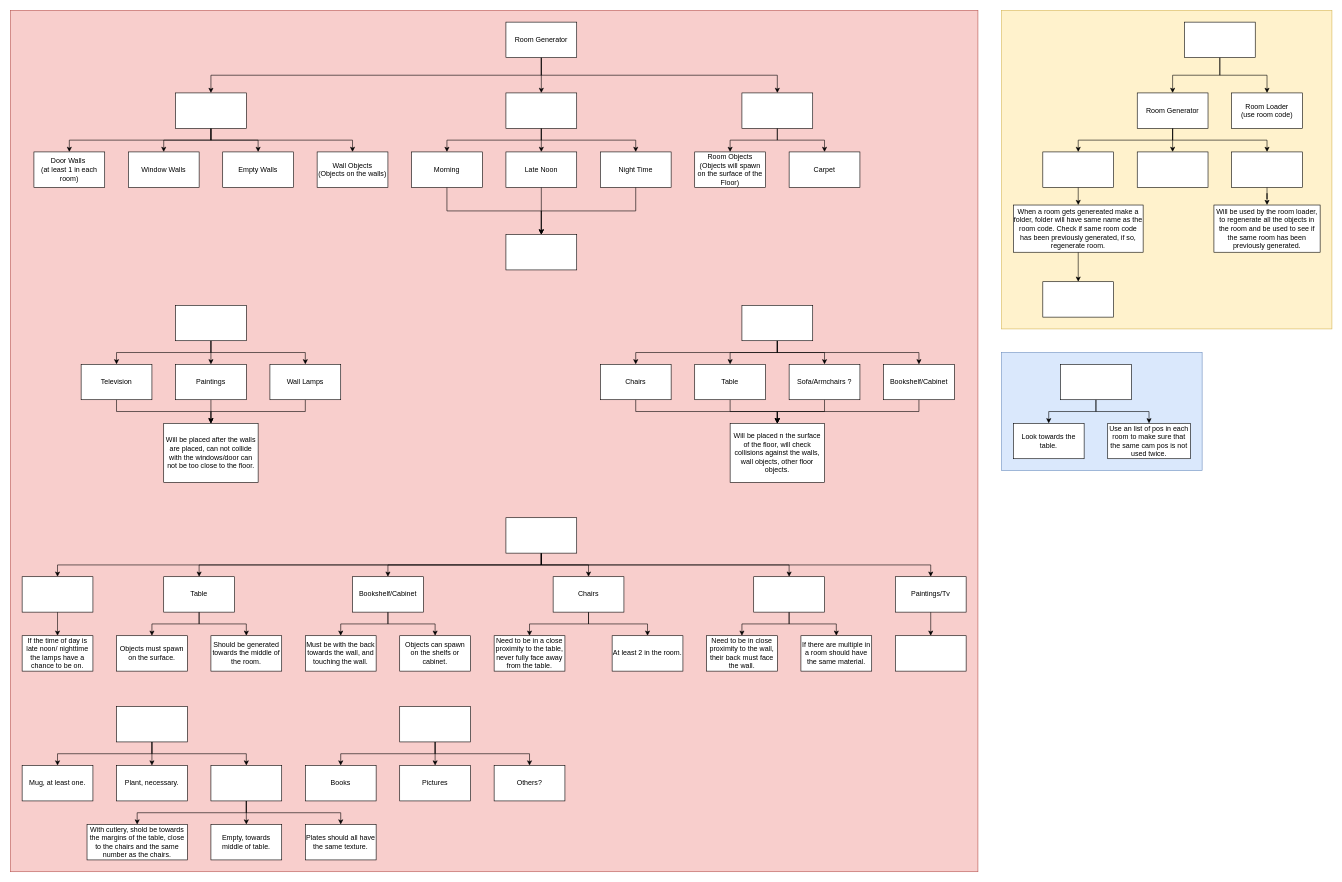
Some shapes in this 1342 by 882 pixel diagram are drawn without their labels. The centre of each missing label's shape, as x and y in pixels:
Bookshelf/Cabinet Objects: (x=435, y=724)
Camera: (x=1095, y=382)
Different content must be placed as pictures / tv show (steal ss from ProTv).: (x=930, y=653)
Floor: (x=777, y=110)
Generate 1 room.: (x=1172, y=169)
Generate 10000 images.: (x=1078, y=169)
Generate room code: (x=1266, y=169)
Lamps: (x=57, y=594)
Outside Light: (x=541, y=252)
Plates: (x=246, y=783)
Room Objects: (x=777, y=323)
Sofa/Armchairs: (x=789, y=594)
Special Object Rules: (x=541, y=535)
Systems: (x=1219, y=40)
Table Objects: (x=151, y=724)
Take N nr of shots of the room, save them in the created room folder.: (x=1078, y=299)
Time Of Day: (x=541, y=110)
Wall Objects: (x=210, y=323)
Walls: (x=210, y=110)
